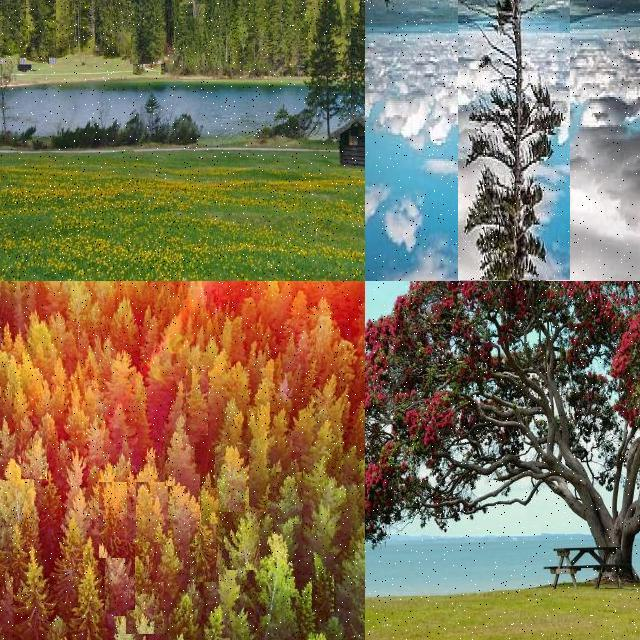tree: (364, 282, 640, 578), (458, 0, 570, 280), (250, 532, 298, 640), (306, 0, 342, 140), (1, 455, 40, 547), (18, 542, 50, 640), (50, 520, 84, 610), (261, 1, 303, 72), (226, 0, 264, 76), (130, 0, 174, 64), (343, 0, 365, 116), (215, 444, 249, 512), (71, 564, 101, 640), (222, 510, 260, 570), (248, 404, 272, 496), (166, 474, 200, 538), (133, 0, 161, 76), (99, 482, 127, 558), (304, 503, 340, 561), (105, 542, 135, 610), (95, 0, 131, 56), (126, 582, 164, 634), (26, 0, 56, 64), (136, 482, 168, 542), (351, 0, 365, 136), (190, 510, 216, 582), (202, 0, 226, 76), (61, 0, 97, 50), (165, 426, 195, 486), (183, 4, 205, 84), (61, 448, 87, 512), (110, 293, 138, 352), (186, 365, 208, 435), (156, 536, 184, 588), (170, 588, 198, 640), (38, 470, 62, 530), (224, 358, 252, 408), (62, 403, 90, 453), (276, 472, 302, 524), (312, 552, 334, 612), (164, 376, 188, 430), (0, 0, 20, 64), (21, 431, 47, 479), (38, 408, 62, 460), (217, 558, 240, 612), (349, 447, 365, 521), (200, 602, 230, 640), (350, 1, 366, 72), (296, 578, 316, 634), (8, 526, 26, 586), (226, 604, 256, 640), (114, 616, 156, 640), (0, 547, 13, 623), (328, 0, 360, 28), (133, 522, 153, 562), (351, 0, 365, 54), (352, 0, 364, 62), (354, 0, 366, 62), (353, 0, 365, 60), (0, 418, 16, 462), (131, 556, 149, 594), (14, 386, 31, 426), (201, 488, 219, 524), (320, 616, 346, 640), (82, 535, 98, 573), (256, 484, 272, 516), (352, 0, 364, 40), (348, 0, 364, 28), (352, 0, 364, 36), (257, 513, 273, 539), (352, 0, 364, 34), (23, 1, 39, 16), (359, 0, 365, 20)
